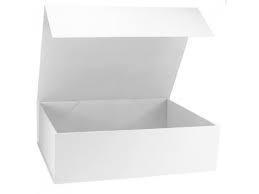box: (36, 4, 219, 185)
